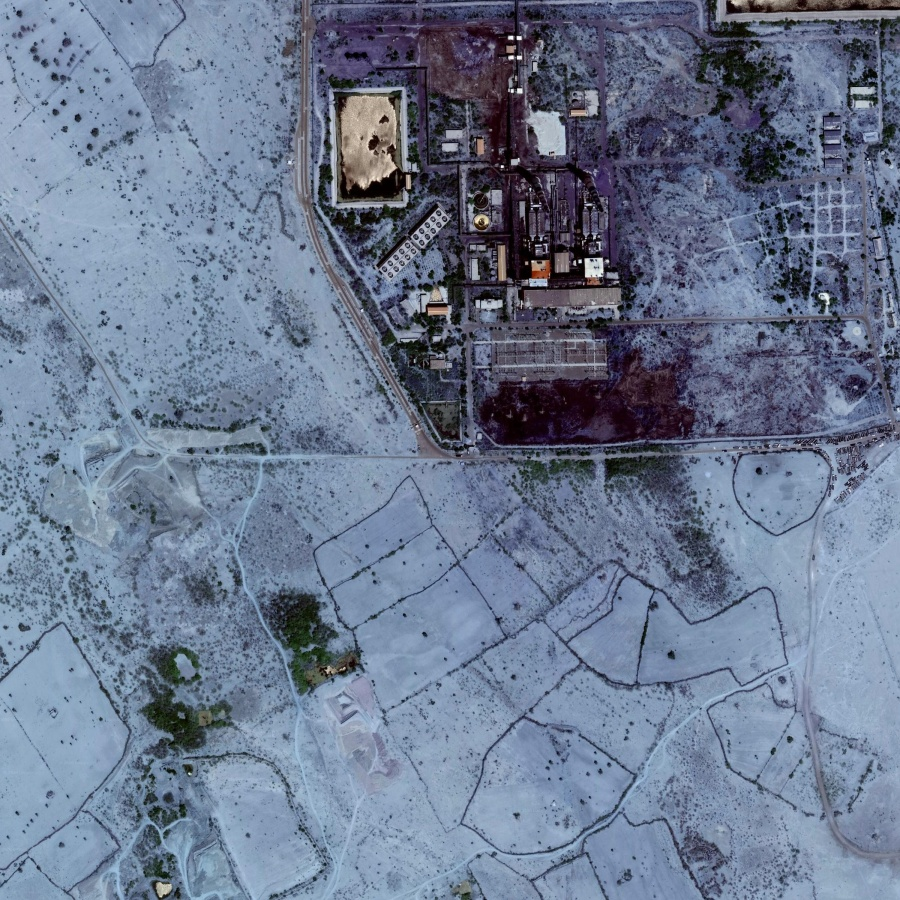PowerPlant: (316, 4, 687, 442)
